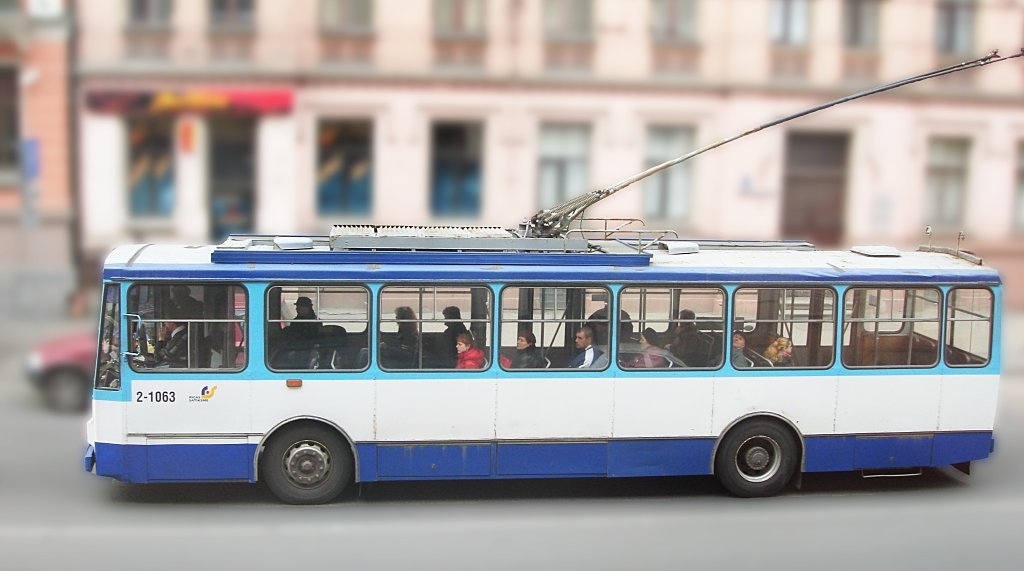Bus: (81, 45, 1024, 506)
